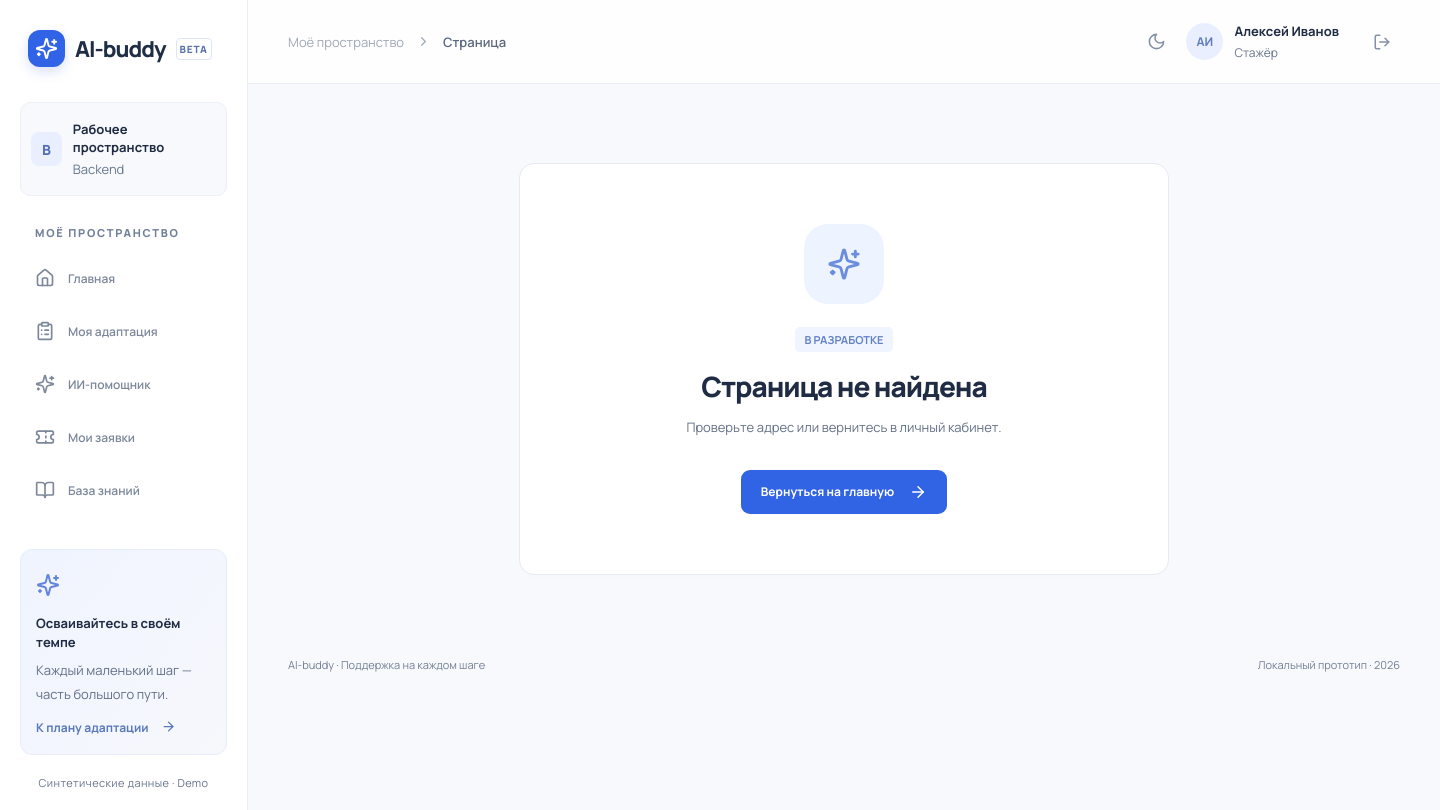
Test: placeholder /missing
This screenshot has width=1440, height=810.
Expected: the heading "Страница не найдена" is shown, [701,367,987,405]
Click the link "Вернуться на главную" at (844, 492), box [741,470,947,514]
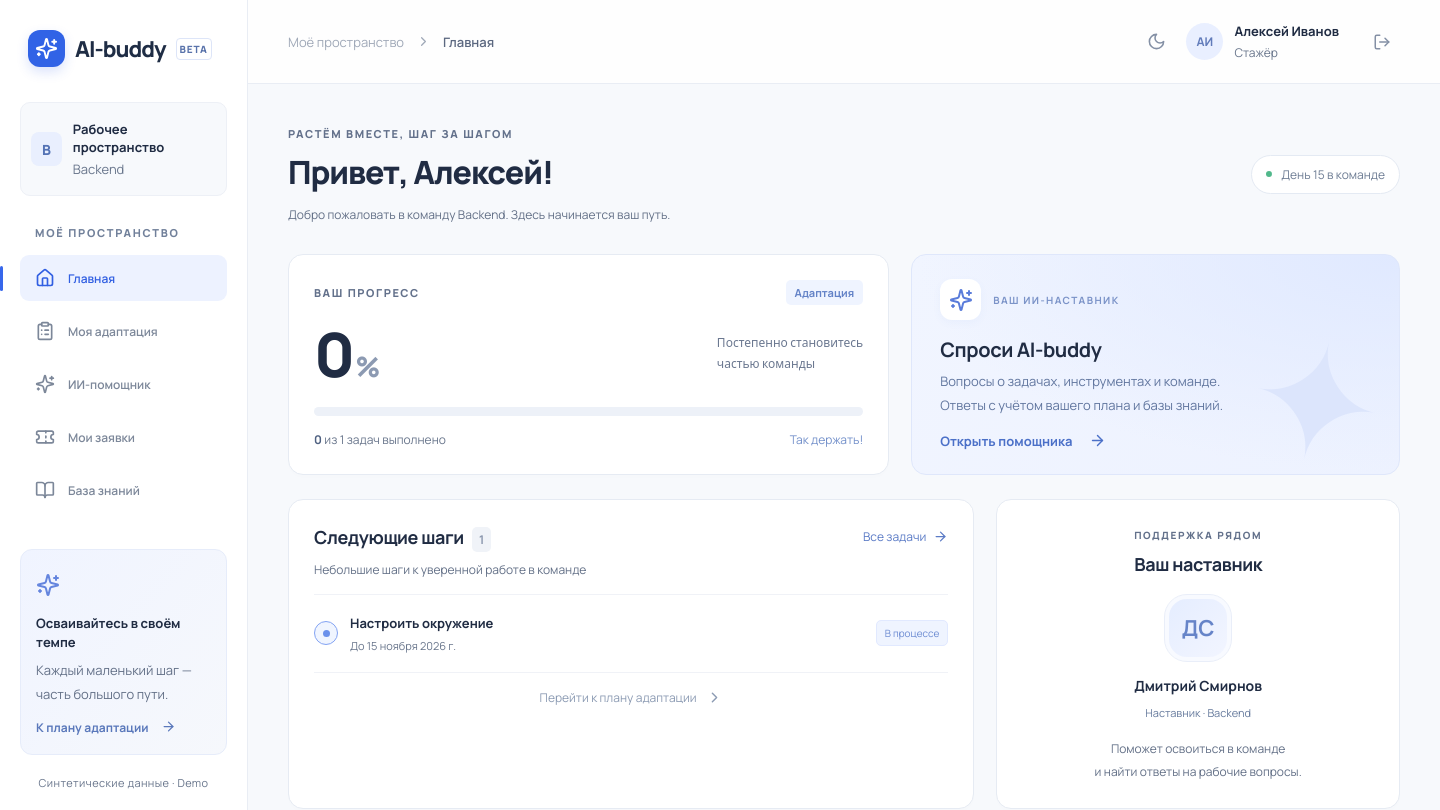
Now the heading "Привет, Алексей!" is shown, box [288,150,553,194]
